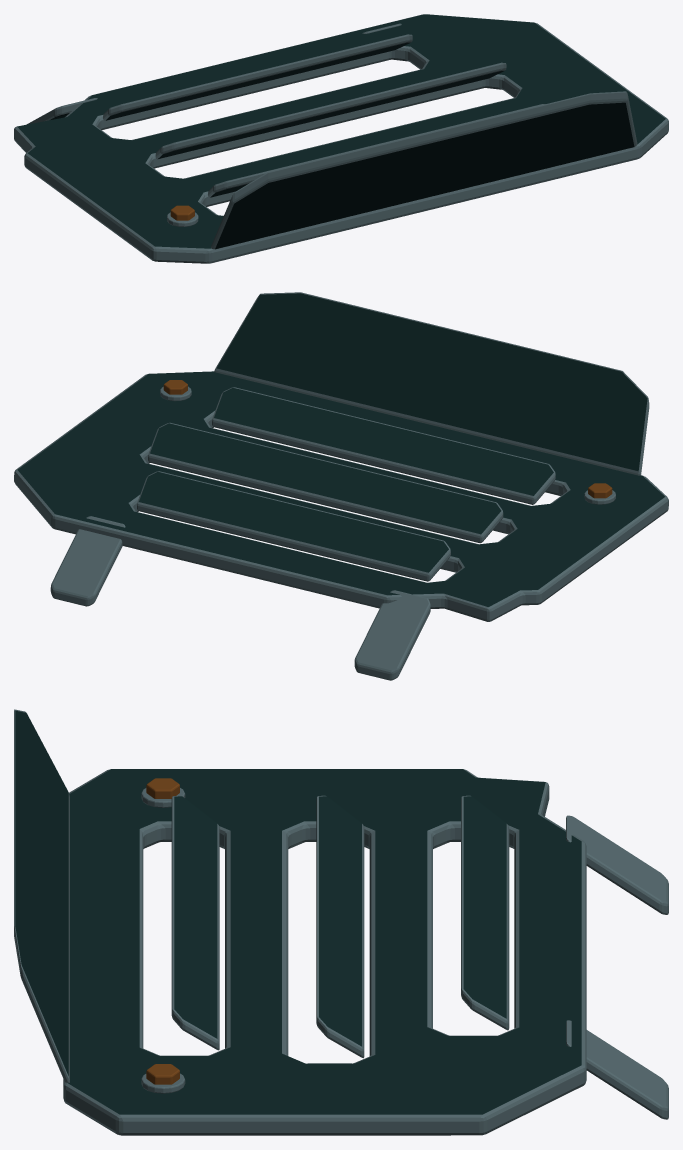
The model's file is SM_HopperMk2Wreck_VentSkin.fbx.
3 views of the same model, one above another, from view 1: azimuth 30°, elevation 25°; view 2: azimuth 150°, elevation 25°; view 3: azimuth 270°, elevation 25° (orthographic). The views are drawn at different scales.
Parts seen in each view (by area): view 1: SM_HopperMk2Wreck_VentSkin; view 2: SM_HopperMk2Wreck_VentSkin; view 3: SM_HopperMk2Wreck_VentSkin.
Part boxes in pixels (x1,y1,x2,y2): SM_HopperMk2Wreck_VentSkin: (14,14,668,263); SM_HopperMk2Wreck_VentSkin: (14,292,668,680); SM_HopperMk2Wreck_VentSkin: (14,709,668,1135).
Size of the model in its own units: 31.5 by 24.9 by 7.83.
